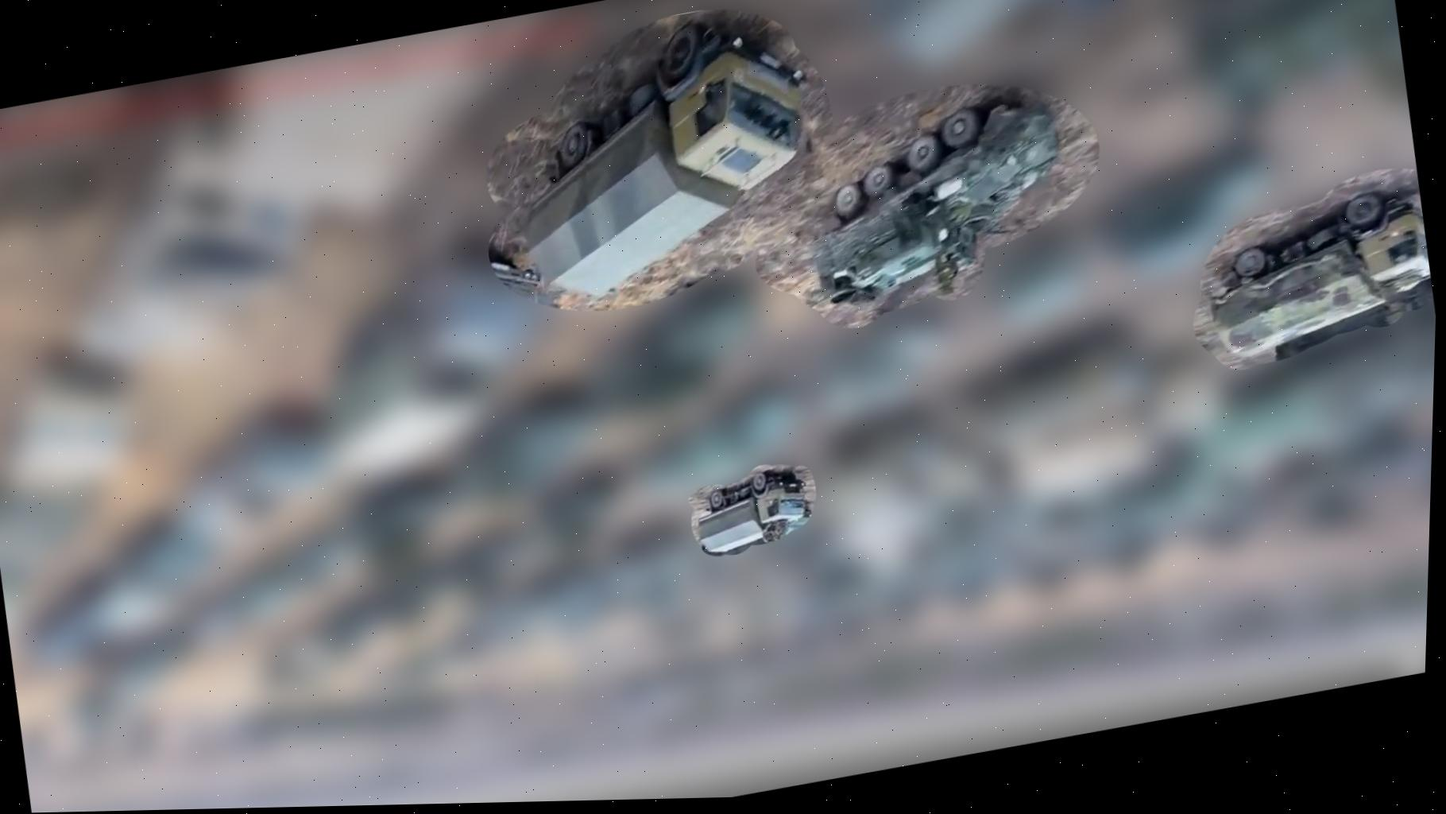armored_car: (788, 81, 1091, 343)
truck: (492, 0, 850, 311), (1188, 182, 1440, 361), (684, 464, 819, 560)
